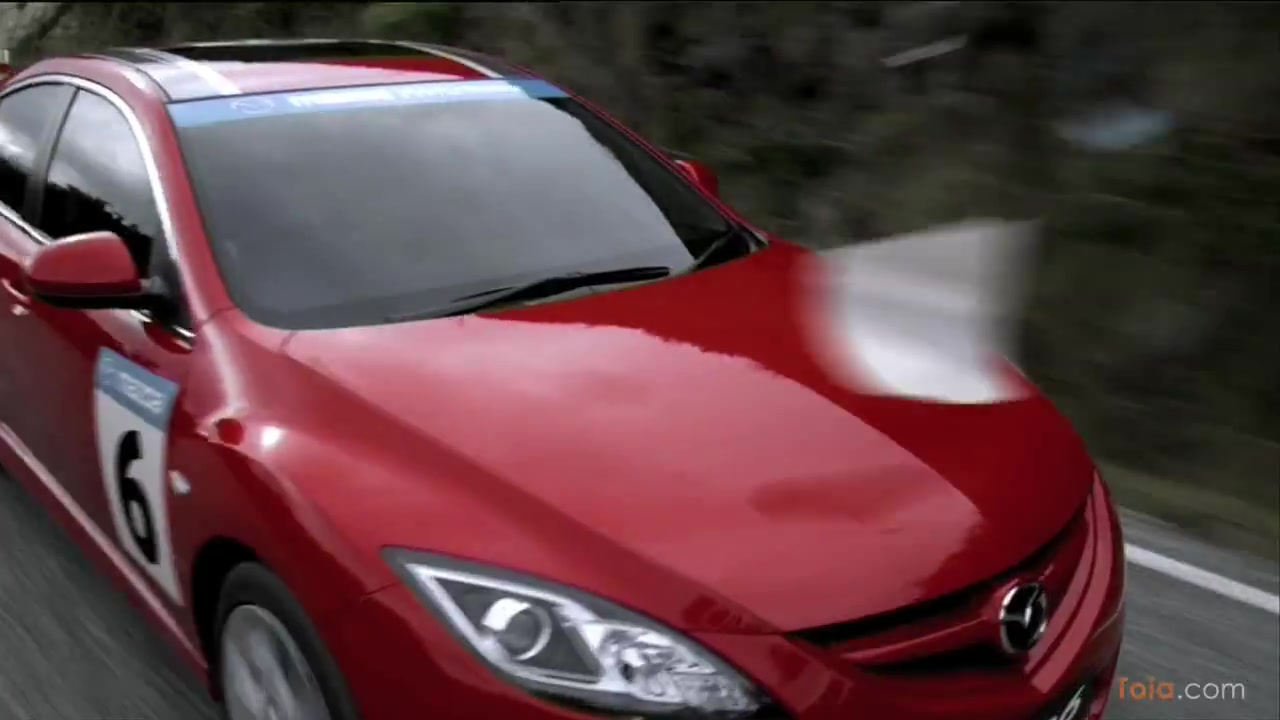car: (1, 34, 1129, 720)
